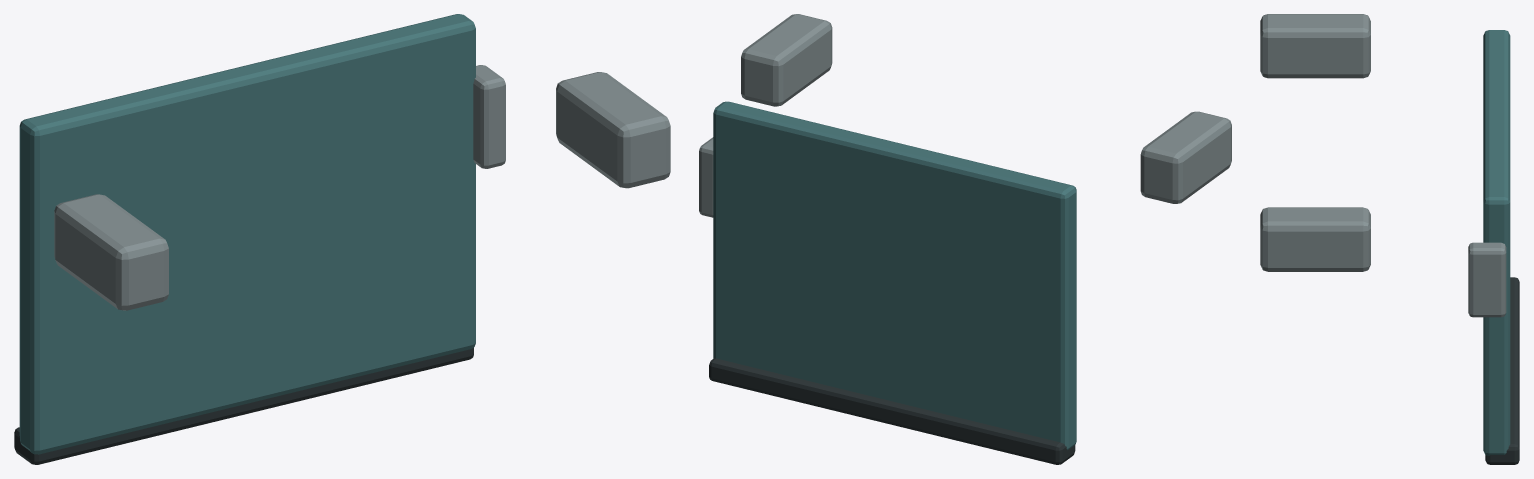
File: visor_2a.glb
3 renders of one model, left to right at view 1: azimuth 30°, elevation 25°; view 2: azimuth 150°, elevation 25°; view 3: azimuth 270°, elevation 25°, orthographic. The views are drawn at different scales.
Visible parts, largest first — view 1: visor_2a; view 2: visor_2a; view 3: visor_2a.
Part boxes in pixels (x1,y1,x2,y2): visor_2a: [14, 14, 670, 464]; visor_2a: [699, 14, 1231, 464]; visor_2a: [1260, 14, 1519, 464].
Size of the model in its own units: 0.265 by 0.155 by 0.136.
